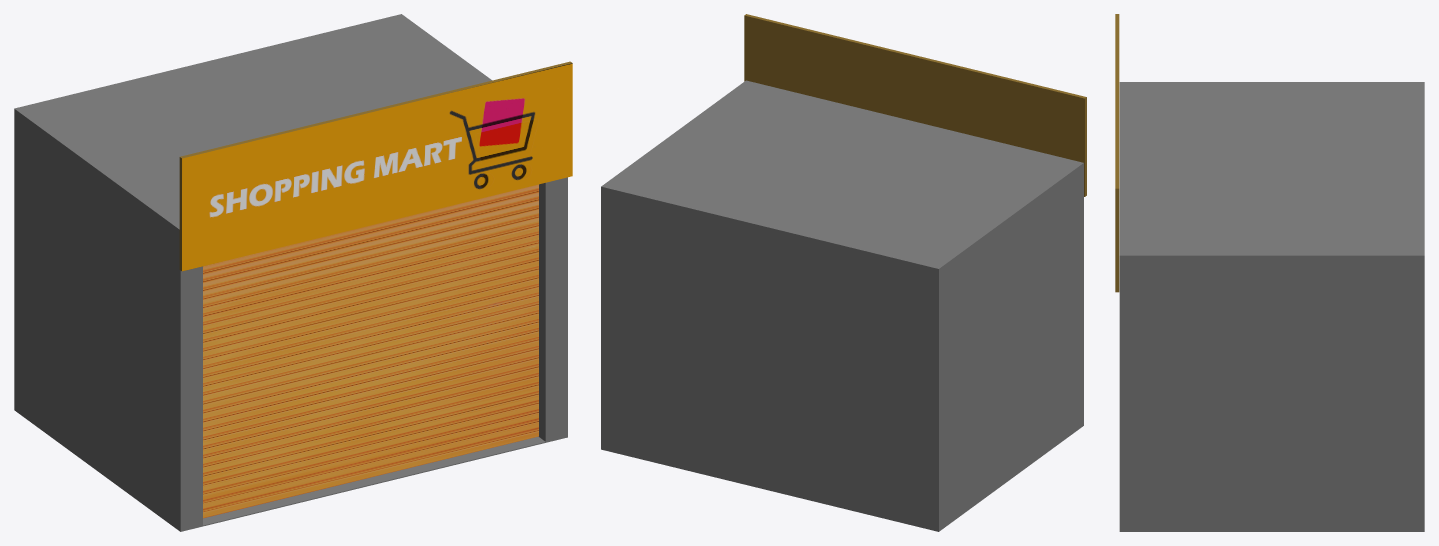
File: shop 3.fbx
3 renders of one model, left to right at view 1: azimuth 30°, elevation 25°; view 2: azimuth 150°, elevation 25°; view 3: azimuth 270°, elevation 25°, orthographic. The views are drawn at different scales.
Visible parts, largest first — view 1: pCube15, pPlane3, pCube2; view 2: pCube15, pCube2; view 3: pCube15, pCube2.
Part boxes in pixels (bbox=[...]): pCube15: bbox=[14, 14, 567, 531]; pPlane3: bbox=[203, 184, 538, 518]; pCube2: bbox=[179, 61, 572, 271]; pCube15: bbox=[601, 80, 1083, 531]; pCube2: bbox=[744, 14, 1086, 196]; pCube15: bbox=[1119, 82, 1424, 531]; pCube2: bbox=[1115, 14, 1119, 292].
Size of the model in its own units: 6.39 by 5.87 by 4.79.
4 materials, 2 textured.
